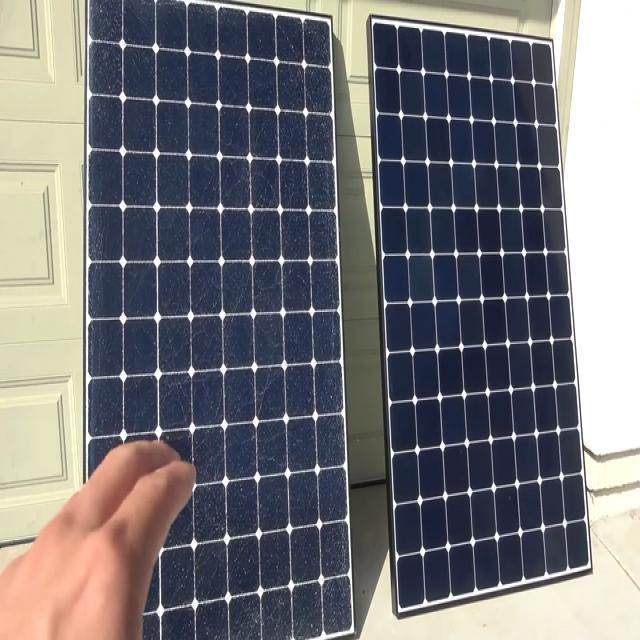Normal Solar Panel: (371, 18, 592, 617)
